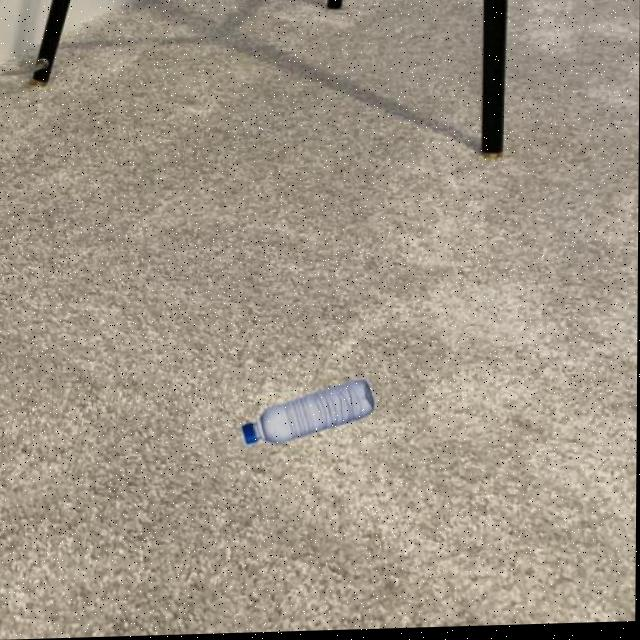bottle: (241, 378, 375, 449)
